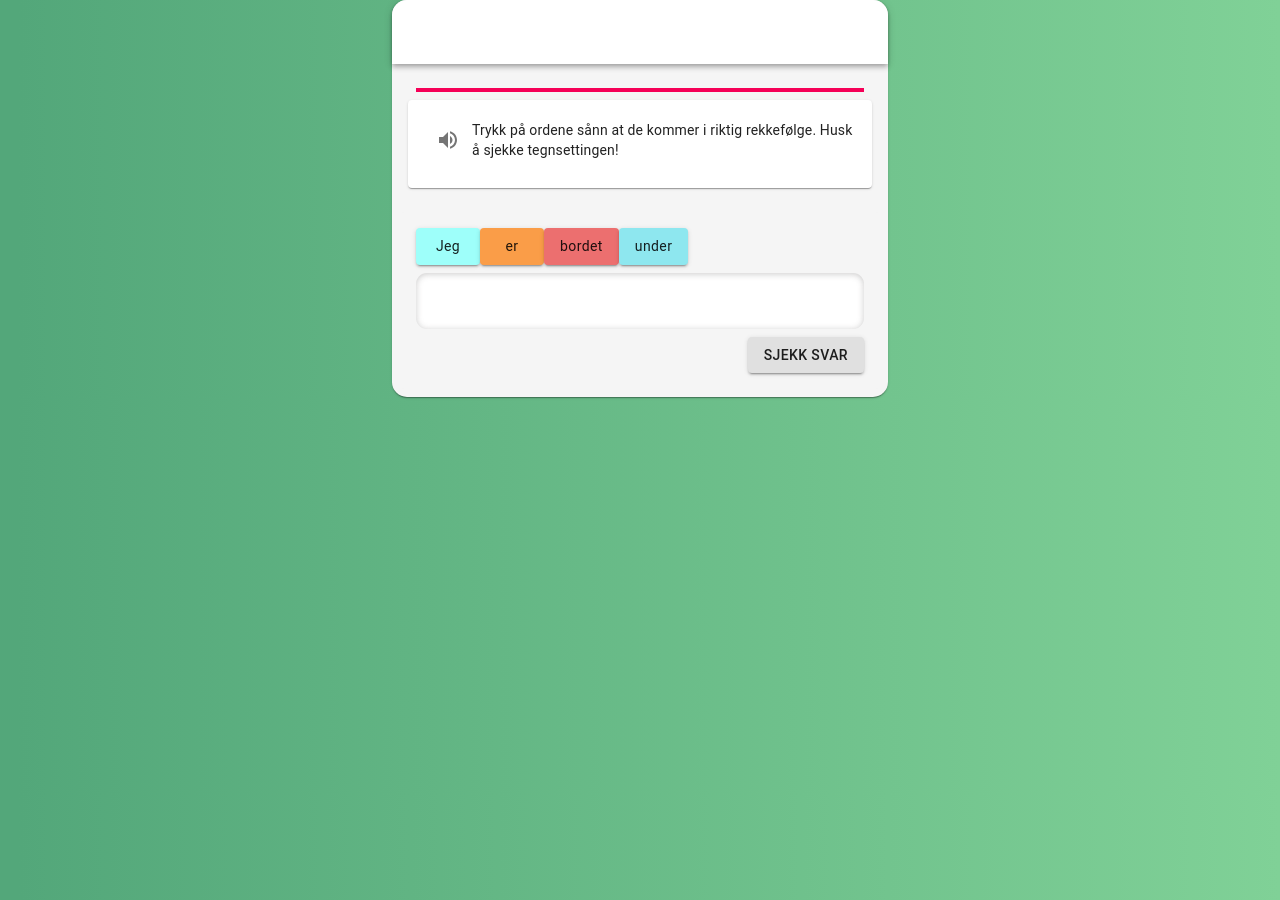
it: RyddeSetninger component › should return "Riktig!" on correct play through, and buttons are disabled
Expected: the text "Jeg" is shown, [436,238,460,254]
Click the button "Jeg". click: (448, 246)
box: [416,228,480,264]
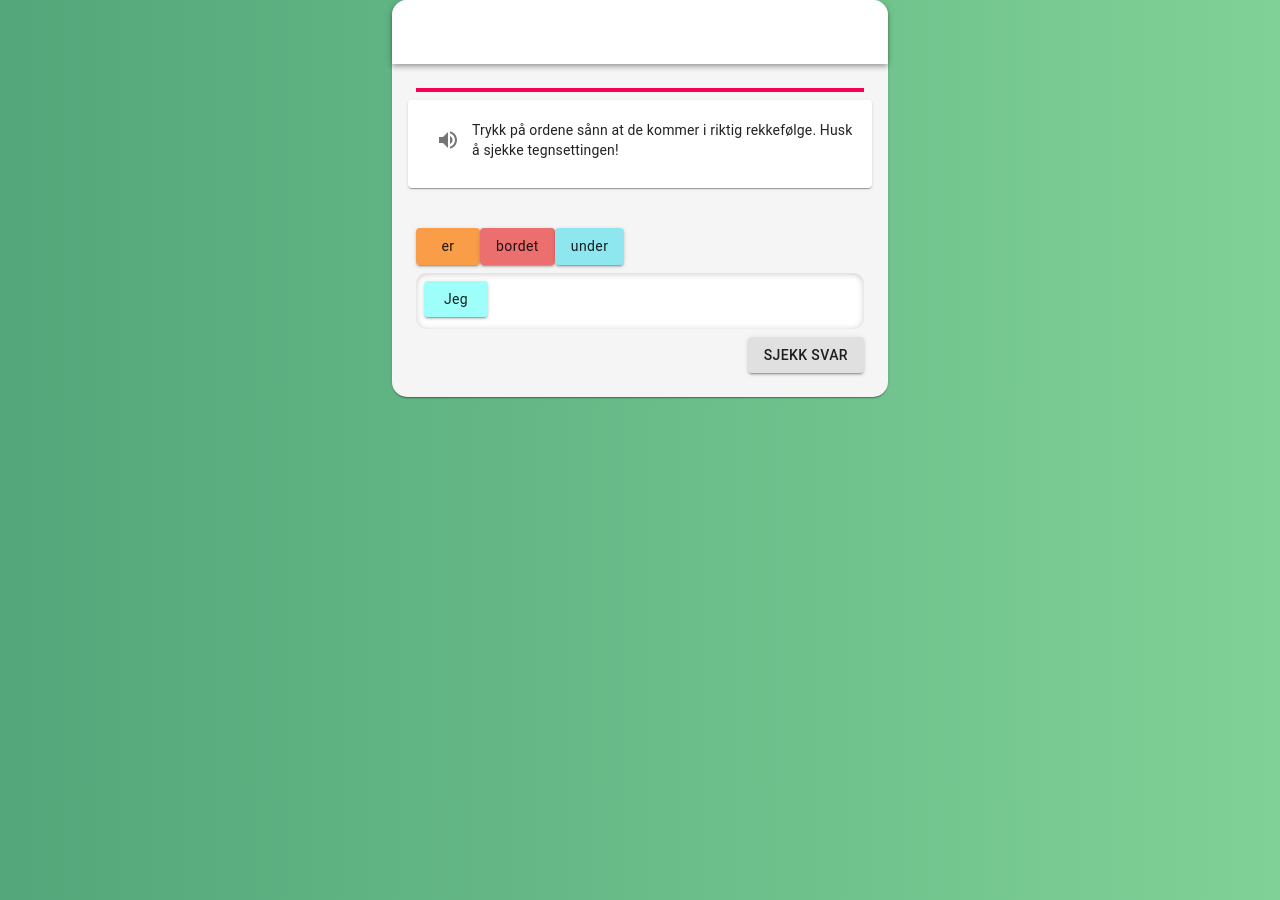
Click the button "er". click: (448, 246)
box: [416,228,480,264]
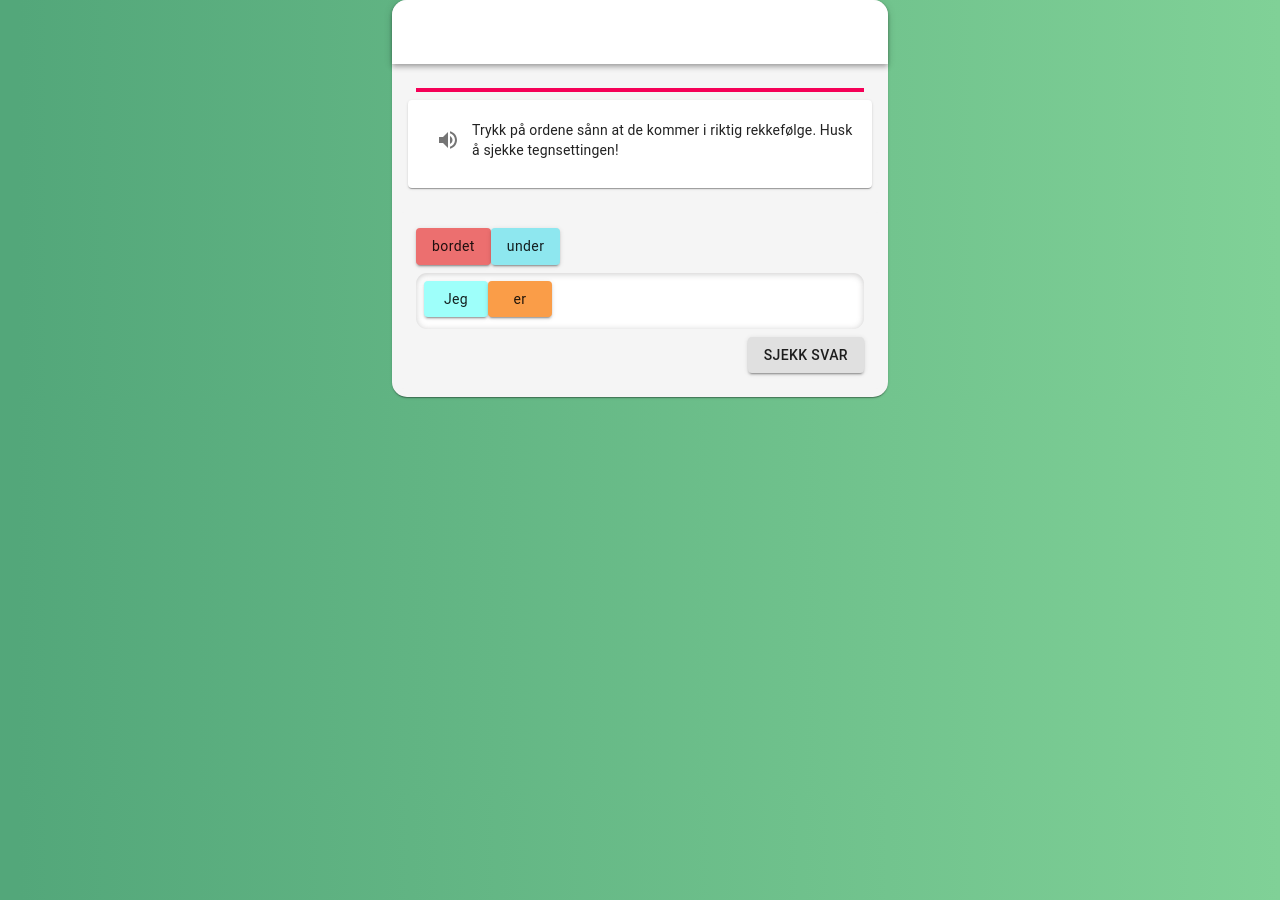
Click the button "under". click: (526, 246)
box: [491,228,560,264]
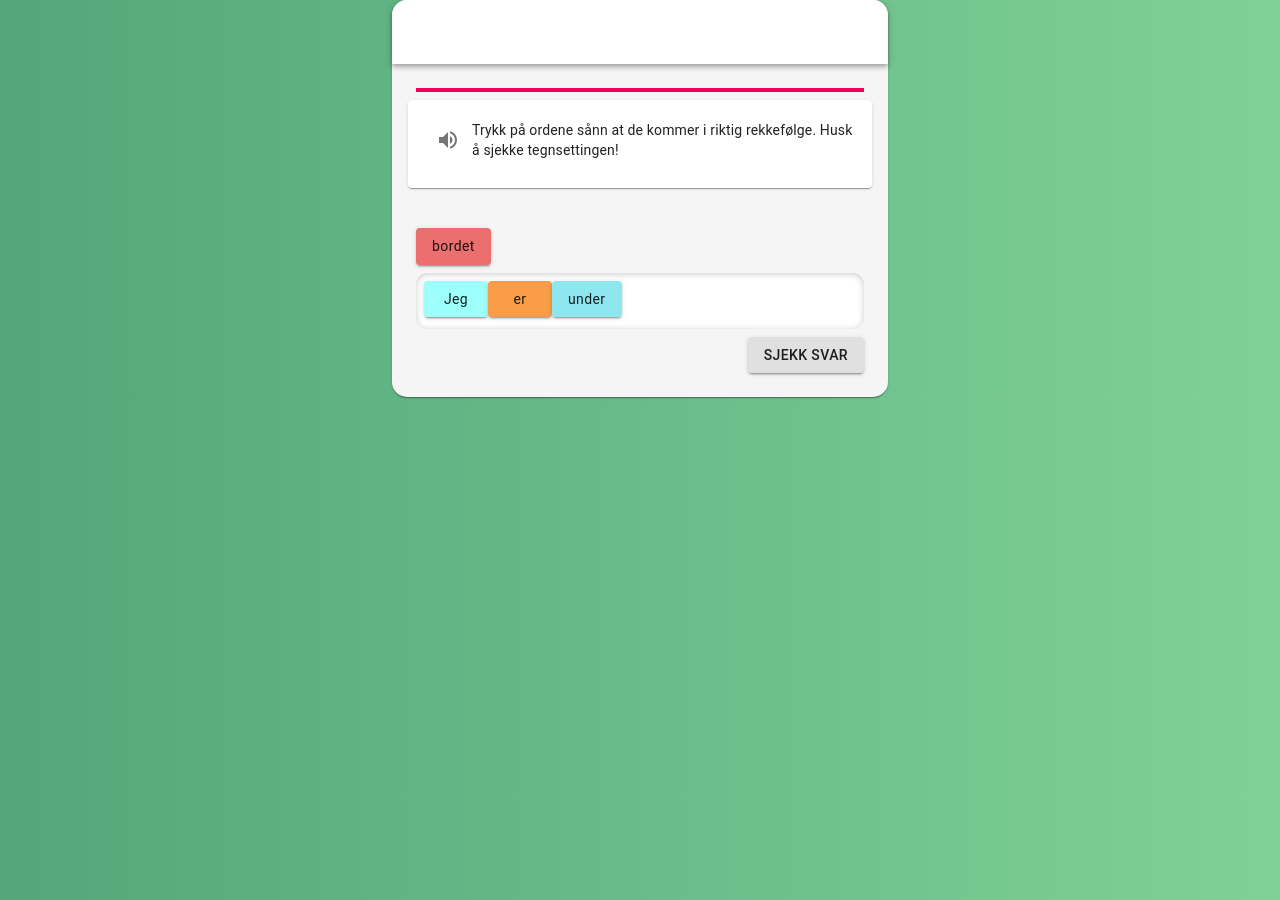
Click the button "bordet". click: (453, 246)
box: [416,228,491,264]
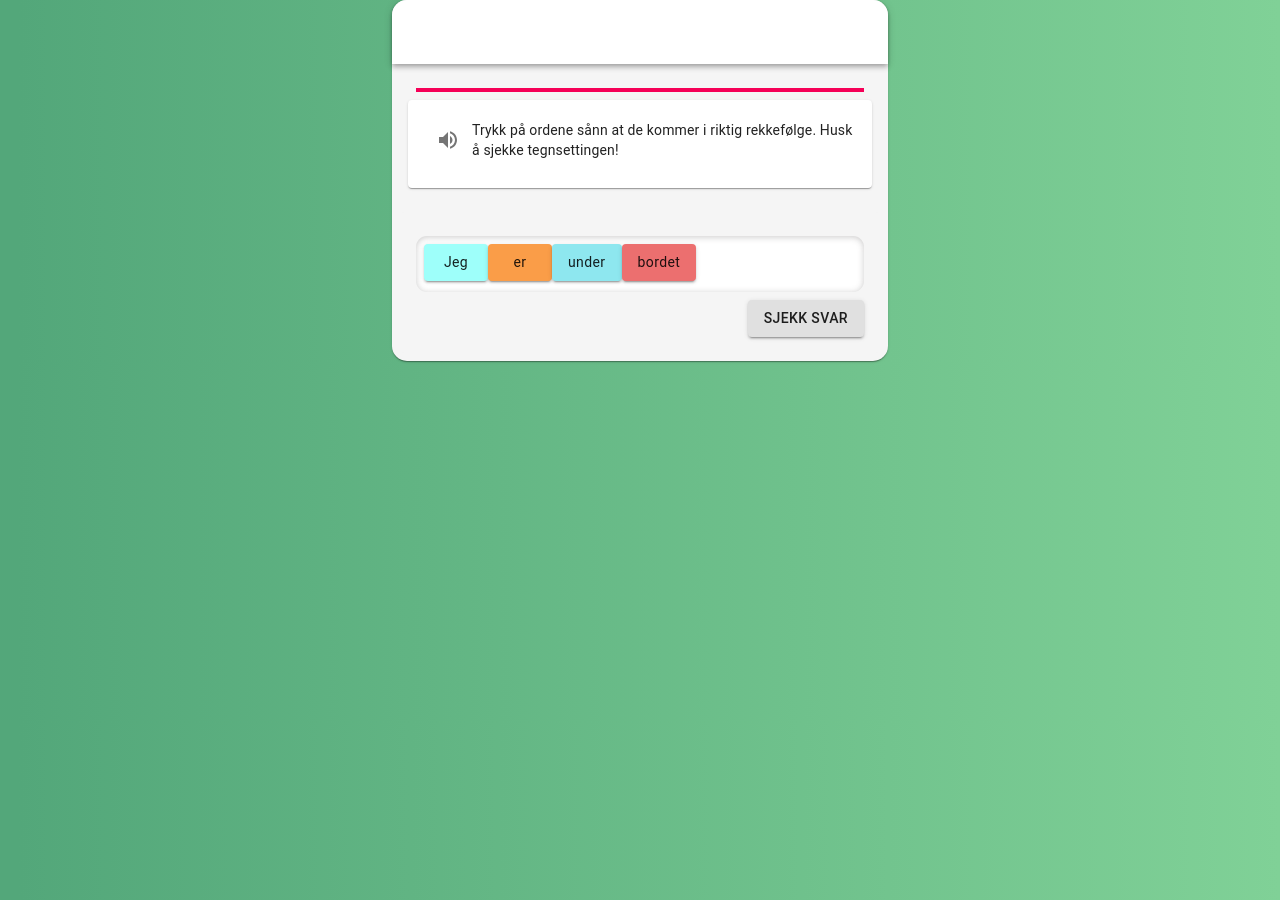
Click the button "Sjekk svar". click: (806, 318)
box: [748,300,864,336]
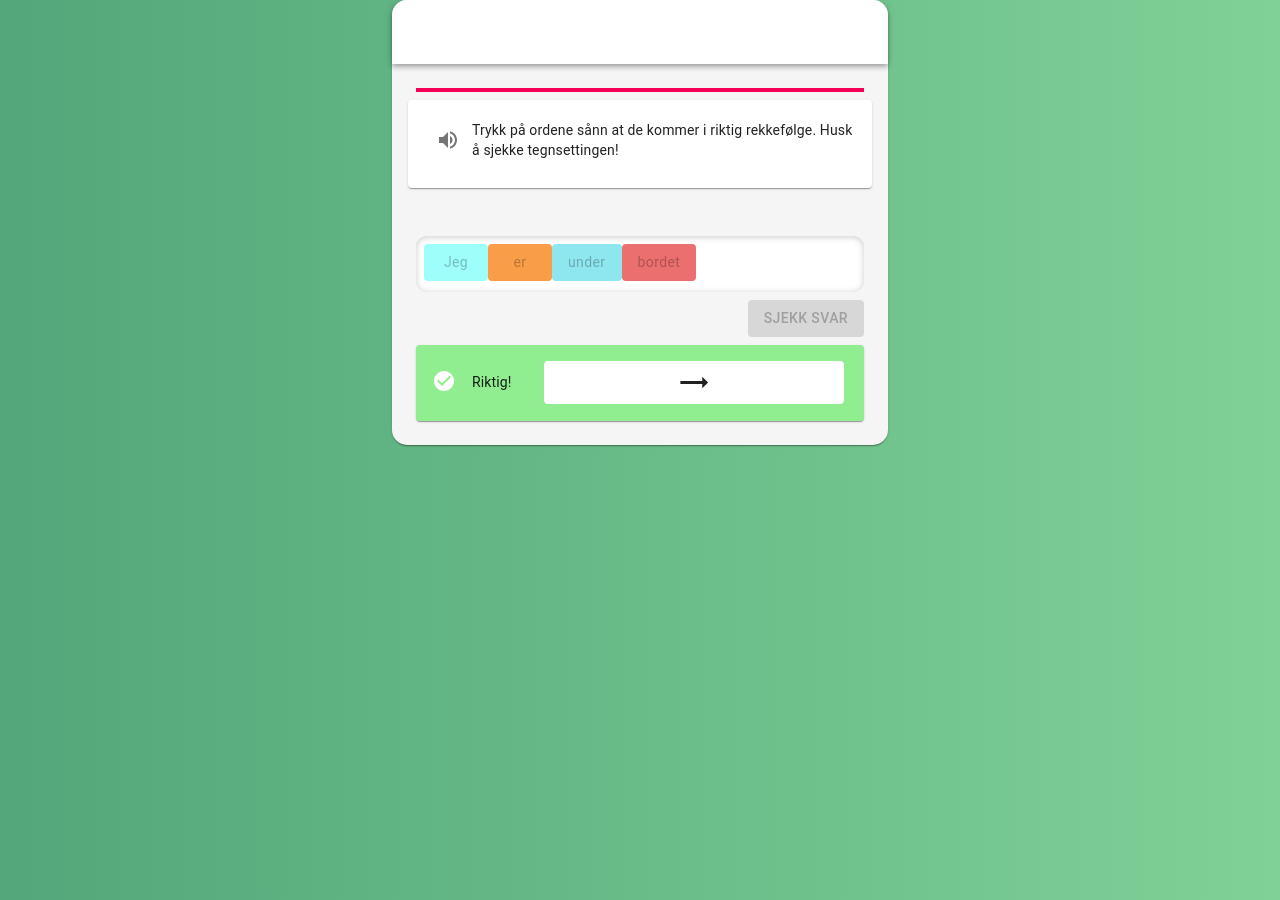
Expected: the text "Riktig!" is shown, [472,372,512,392]
Expected: the button "Jeg" is disabled, [424,244,488,280]
Expected: the button "Sjekk svar" is disabled, [748,300,864,336]
